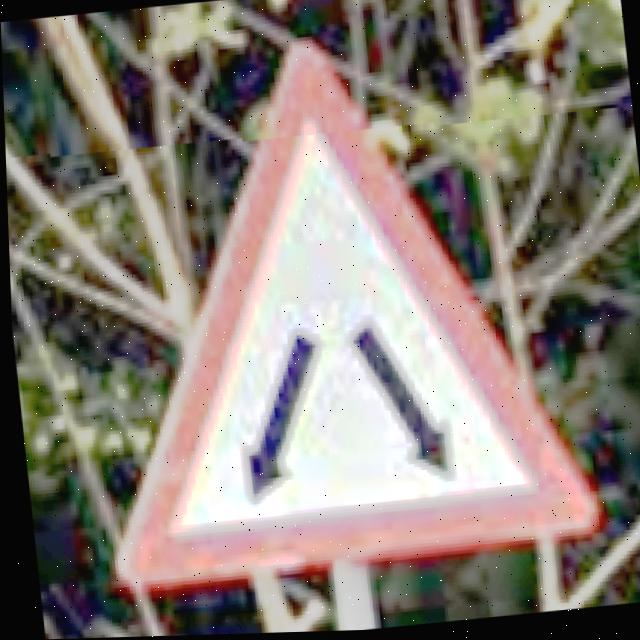diverge: (111, 47, 593, 588)
